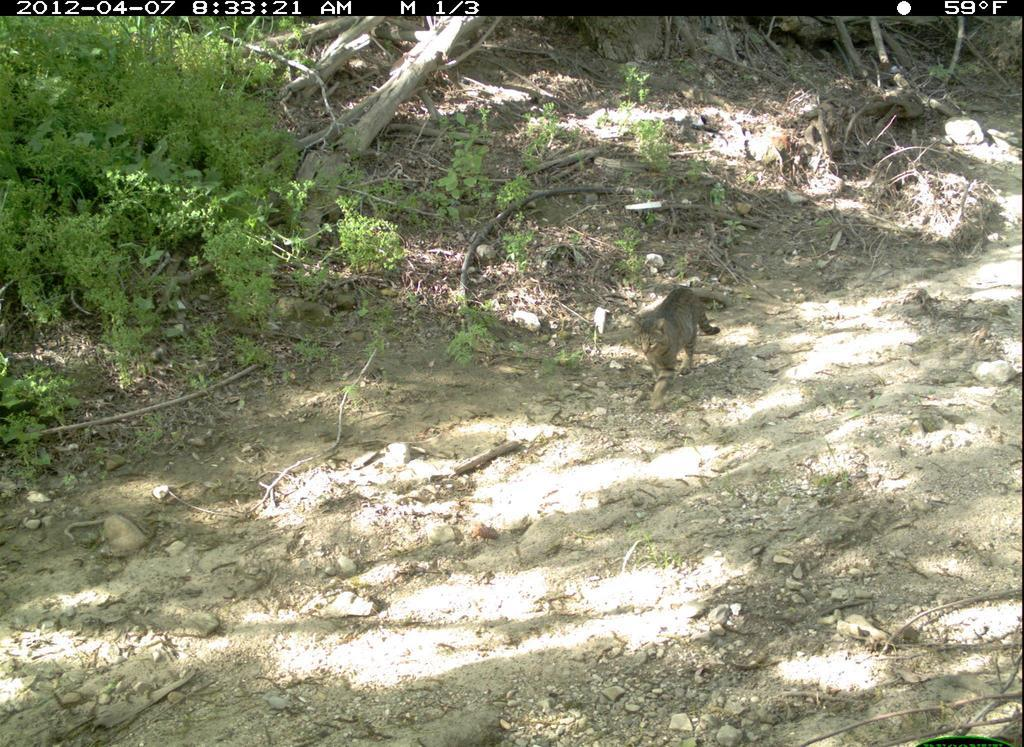cat: (602, 274, 745, 422)
